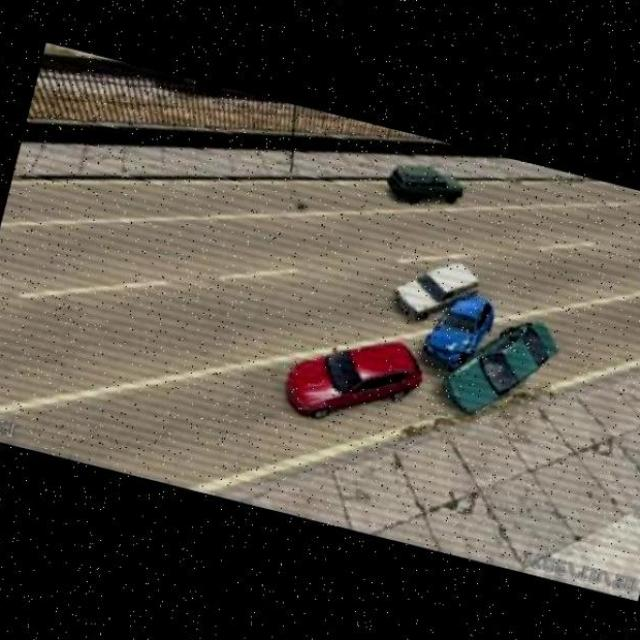accident: (400, 280, 580, 436)
